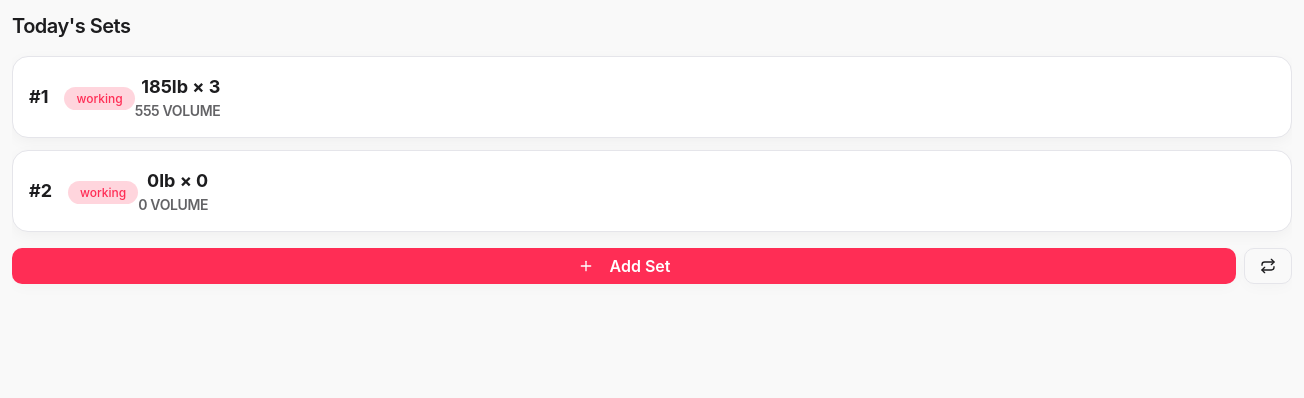
Test case: ExerciseSets repeat button › ignores a blank placeholder set when picking what to repeat
This screenshot has width=1304, height=398.
Click the button named "Repeat last set".
click(1268, 266)  # box [1244,248,1292,284]
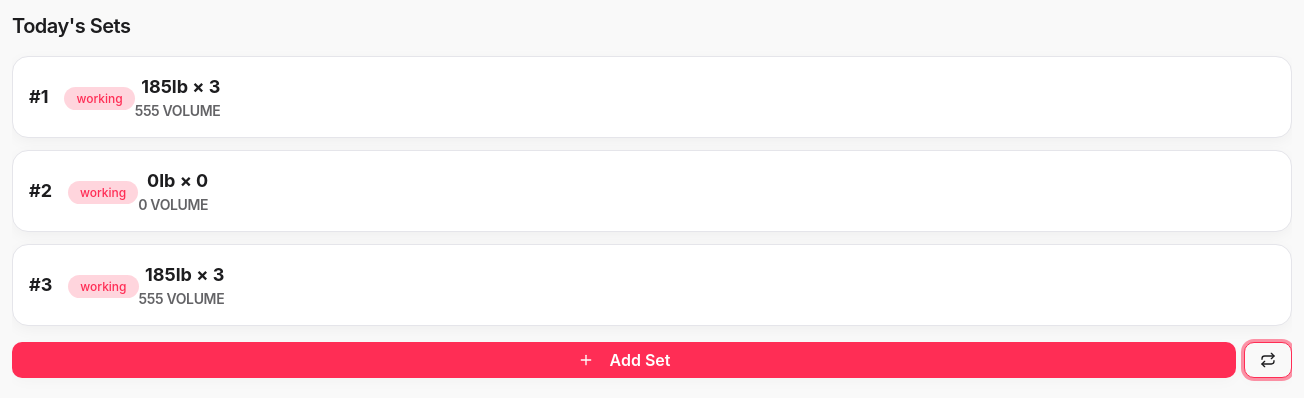
expect the button with test id "exercise-card" shows "185lb × 3": met, box [12,244,1292,326]
